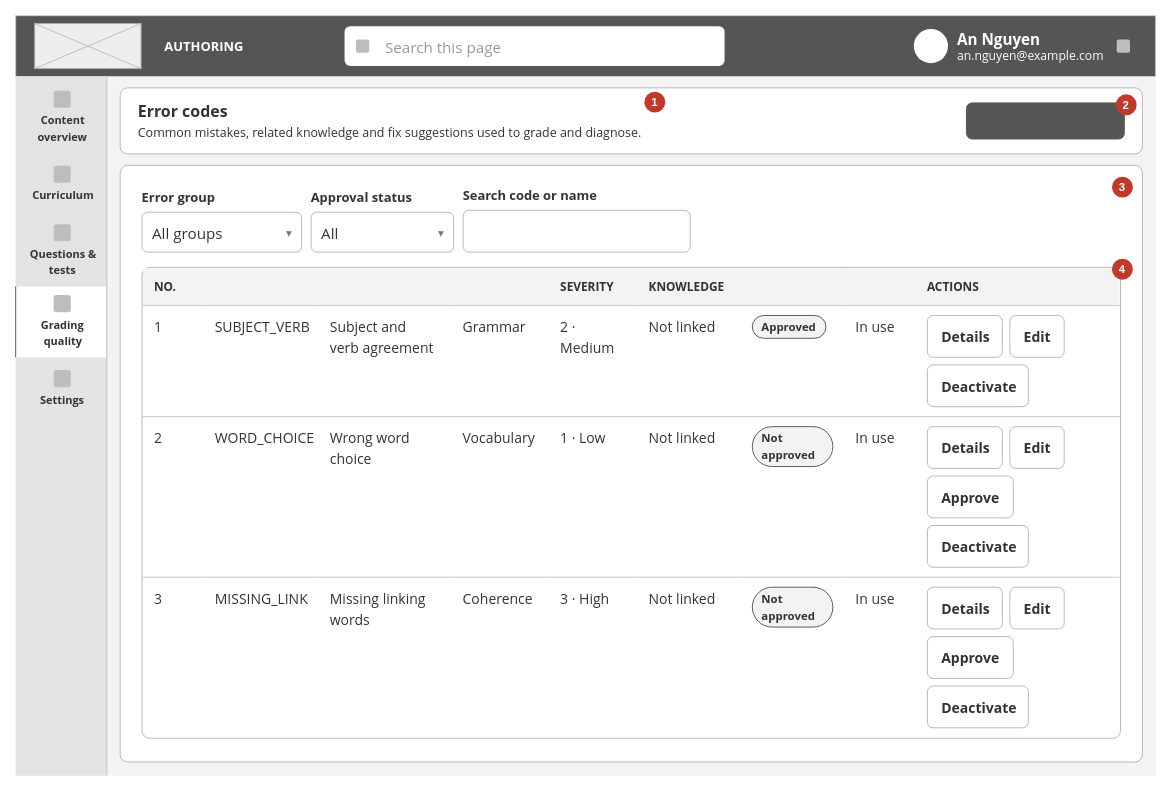
Some shapes in this 1171 by 791 pixel diagram are drawn without their labels. Each missing label, with the centre of its shape:
"AN" belongs at [930,45].
"APPROVAL" belongs at [792,286].
"CODE" belongs at [260,286].
"Create error code" belongs at [1044,120].
"GROUP" belongs at [500,286].
"NAME" belongs at [384,286].
"STATUS" belongs at [880,286].
